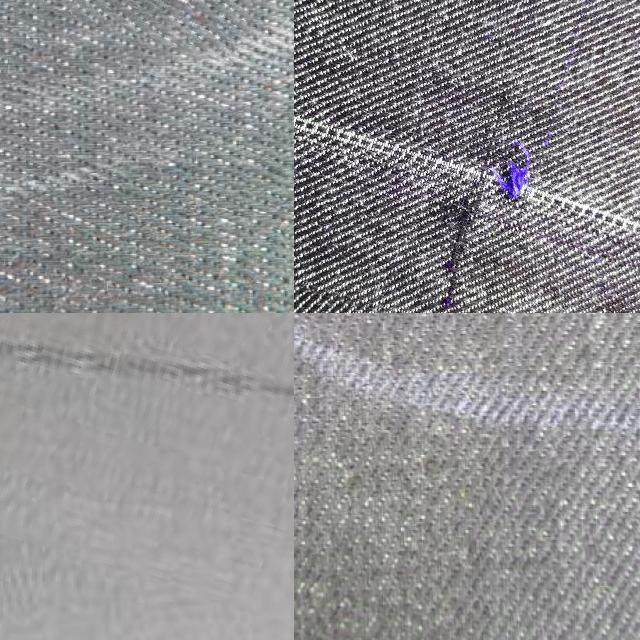stains: (294, 0, 640, 313), (0, 313, 294, 640), (83, 0, 280, 55)
